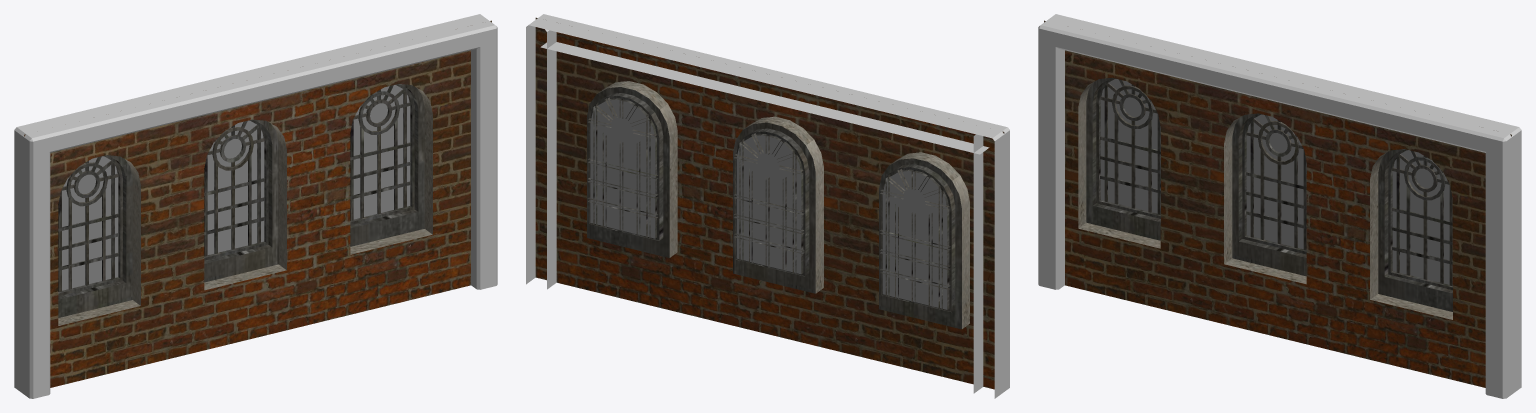
File: Batiment_1_3_windows.FBX
The picture shows the model from 3 angles, left to right: view 1: azimuth 30°, elevation 25°; view 2: azimuth 150°, elevation 25°; view 3: azimuth 330°, elevation 25°; orthographic projection.
Visible parts, largest first — view 1: Object001; view 2: Object001; view 3: Object001.
Part boxes in pixels (box(x1,y1,x2,y2)): Object001: box(14, 14, 497, 398); Object001: box(526, 14, 1009, 398); Object001: box(1038, 14, 1521, 398).
Bounding box in the file's own units: 315 × 25.42 × 167.
